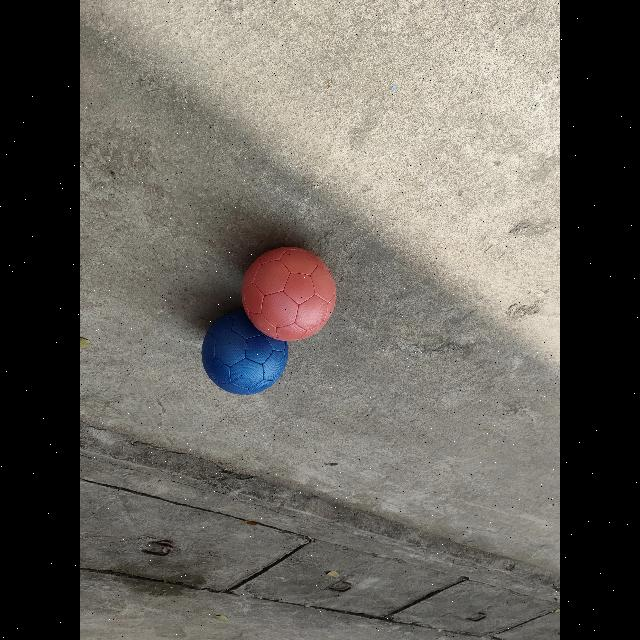B: (201, 310, 288, 396)
R: (241, 248, 336, 341)
